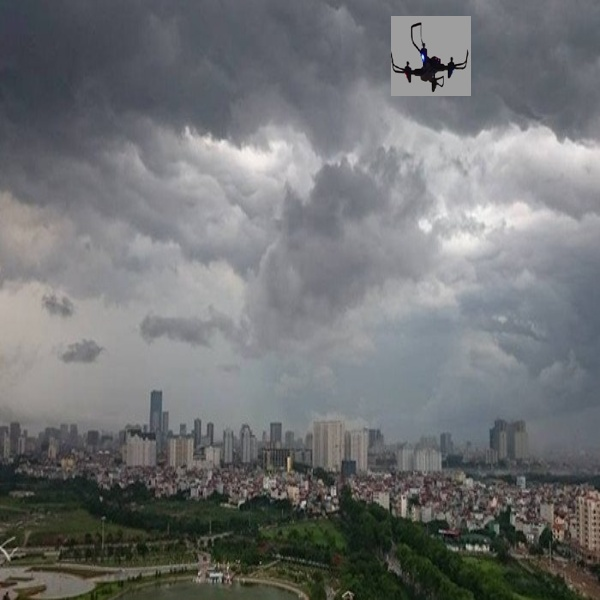drone: (388, 17, 472, 95)
